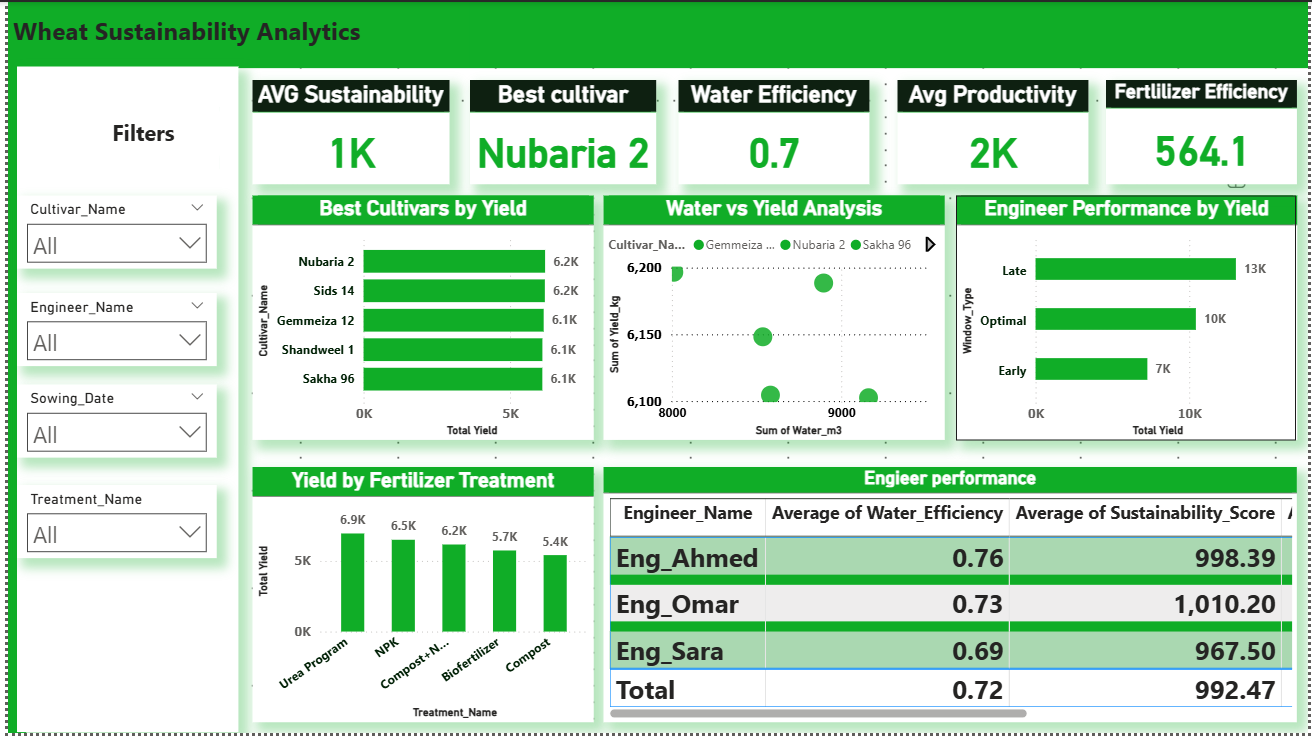

The page's visual inventory and layout, read from the dashboard file:
{"tool":"powerbi","page":{"name":"Page 1","canvas":[1280,720],"ordinal":0},"visuals":[{"type":"shape","box":[0,64.6,18.2,656],"z":1000},{"type":"shape","box":[0,0,1281,65.1],"z":2000},{"type":"textbox","box":[0,0,454.3,63.6],"z":3000},{"type":"shape","box":[9.1,63.6,218,655.7],"z":4000},{"type":"shape","box":[41.4,102.7,167.3,61.3],"z":5000},{"type":"textbox","box":[56.3,107.7,154.1,43.1],"z":6000},{"type":"slicer","fields":{"Values":["dim_cultivar1.Cultivar_Name"]},"box":[9.4,190.9,196.5,71.8],"z":7000},{"type":"slicer","fields":{"Values":["dim_engineer1.Engineer_Name"]},"box":[9.4,287.2,196.5,71.8],"z":8000},{"type":"slicer","fields":{"Values":["dim_sowingdate1.Sowing_Date"]},"box":[9.4,376.1,196.5,71.8],"z":9000},{"type":"slicer","fields":{"Values":["dim_fertilizer1.Treatment_Name"]},"box":[9.4,476.2,196.5,71.8],"z":10000},{"type":"card","title":"AVG Sustainability","fields":{"Values":["fact_wheat_trials1.Avg Sustainability Score"]},"box":[240.8,77.2,193.8,103],"z":11000},{"type":"card","title":"Best cultivar","fields":{"Values":["fact_wheat_trials1.Best Cultivar"]},"box":[454.3,77.2,183.2,103],"z":12000},{"type":"card","title":"Water Efficiency","fields":{"Values":["fact_wheat_trials1.Water Efficiency"]},"box":[660.2,77.2,187.8,103],"z":13000},{"type":"card","title":"Avg Productivity","fields":{"Values":["fact_wheat_trials1.Avg Productivity"]},"box":[875.2,77.2,187.8,103],"z":14000},{"type":"clusteredBarChart","title":"Best Cultivars by Yield","fields":{"Category":["dim_cultivar1.Cultivar_Name"],"Y":["fact_wheat_trials1.Total Yield"]},"box":[240.8,190.8,336.2,240.8],"z":15000},{"type":"scatterChart","title":"Water vs Yield Analysis","fields":{"Y":["Sum(fact_wheat_trials1.Yield_kg)"],"X":["Sum(fact_wheat_trials1.Water_m3)"],"Series":["dim_cultivar1.Cultivar_Name"],"Size":["Sum(fact_wheat_trials1.Productivity)"]},"box":[586,190.8,336.2,240.8],"z":16000},{"type":"columnChart","title":" Yield by Fertilizer Treatment","fields":{"Y":["fact_wheat_trials1.Total Yield"],"Category":["dim_fertilizer1.Treatment_Name"]},"box":[240.8,457.3,336.2,251.4],"z":17000},{"type":"clusteredBarChart","title":" Engineer Performance by Yield","fields":{"Category":["dim_sowingdate1.Window_Type"],"Y":["fact_wheat_trials1.Total Yield"]},"box":[932.8,190.8,336.2,240.8],"z":18000},{"type":"card","title":"Water Efficiency","fields":{"Values":["Avg(fact_wheat_trials1.Fertilizer_Efficiency)"]},"box":[1081.1,77.2,187.8,103],"z":19000},{"type":"tableEx","title":"Engieer performance","fields":{"Values":["dim_engineer1.Engineer_Name","Avg(fact_wheat_trials1.Water_Efficiency)","Avg(fact_wheat_trials1.Sustainability_Score)","Avg(fact_wheat_trials1.Yield_kg)","Avg(fact_wheat_trials1.Fertilizer_Efficiency)"]},"box":[586,457.3,682.9,251.4],"z":19001}]}

Visuals, with their boxes in screenshot pixels (x1, y1, x2, y2), scaled from the page's 1280x720 canvas onto the 1312x742 screenshot:
shape: bbox=(0, 67, 19, 741)
shape: bbox=(0, 0, 1311, 67)
textbox: bbox=(0, 0, 466, 66)
shape: bbox=(9, 66, 233, 741)
shape: bbox=(42, 106, 214, 169)
textbox: bbox=(58, 111, 216, 155)
slicer - dim_cultivar1.Cultivar_Name: bbox=(10, 197, 211, 271)
slicer - dim_engineer1.Engineer_Name: bbox=(10, 296, 211, 370)
slicer - dim_sowingdate1.Sowing_Date: bbox=(10, 388, 211, 462)
slicer - dim_fertilizer1.Treatment_Name: bbox=(10, 491, 211, 565)
"AVG Sustainability" card: bbox=(247, 80, 445, 186)
"Best cultivar" card: bbox=(466, 80, 653, 186)
"Water Efficiency" card: bbox=(677, 80, 869, 186)
"Avg Productivity" card: bbox=(897, 80, 1090, 186)
"Best Cultivars by Yield" clusteredBarChart: bbox=(247, 197, 591, 445)
"Water vs Yield Analysis" scatterChart: bbox=(601, 197, 945, 445)
" Yield by Fertilizer Treatment" columnChart: bbox=(247, 471, 591, 730)
" Engineer Performance by Yield" clusteredBarChart: bbox=(956, 197, 1301, 445)
"Water Efficiency" card: bbox=(1108, 80, 1301, 186)
"Engieer performance" tableEx: bbox=(601, 471, 1301, 730)
